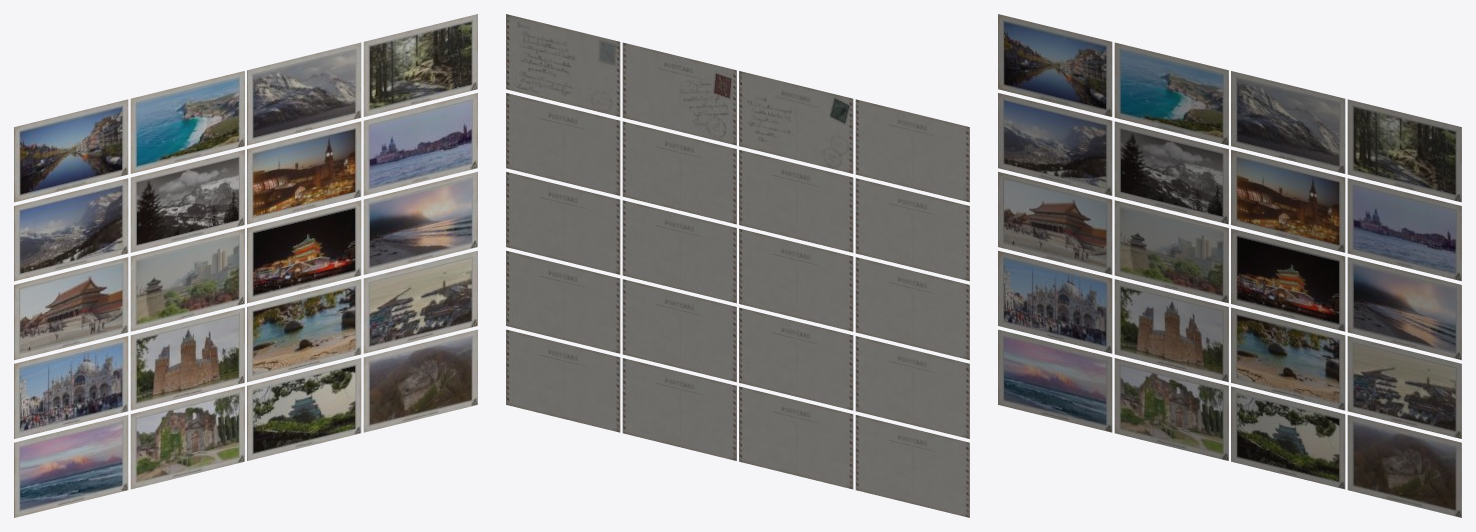
Rendered from ph_postcard_set_01.glb.
3 renders of one model, left to right at view 1: azimuth 30°, elevation 25°; view 2: azimuth 150°, elevation 25°; view 3: azimuth 330°, elevation 25°, orthographic.
Parts seen in each view (by area): view 1: postcard_01; view 2: postcard_01; view 3: postcard_01.
Boxes of the visible parts, <box> form: postcard_01: <box>14,14,477,517</box>; postcard_01: <box>506,14,969,517</box>; postcard_01: <box>998,14,1461,517</box>.
Size of the model in its own units: 0.6767 by 0.545 by 0.000124.
Materials: 1 (1 with a texture image).
